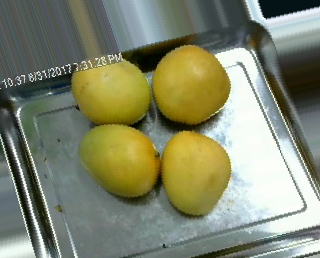Mango: (149, 41, 232, 126), (160, 126, 233, 216), (76, 124, 158, 202), (69, 52, 151, 124)
